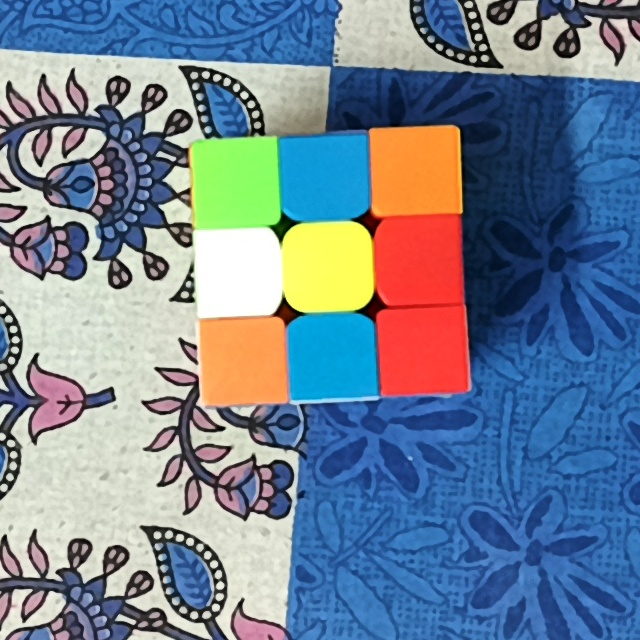tile: (385, 316, 462, 385), (195, 151, 272, 215), (377, 138, 452, 203), (385, 228, 456, 293), (289, 144, 356, 211), (205, 333, 282, 391), (205, 240, 270, 305), (301, 326, 364, 391), (293, 238, 360, 299)
